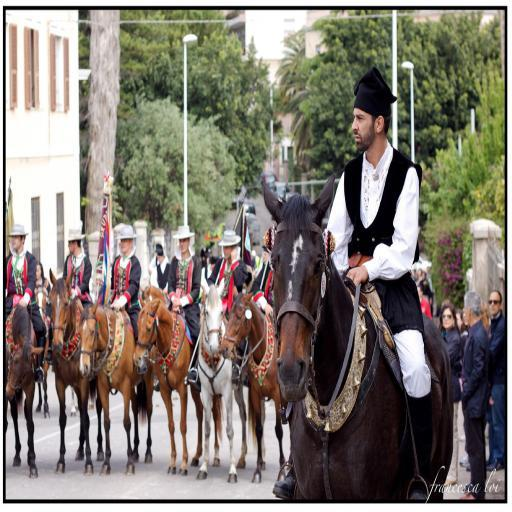Horse: (261, 180, 454, 503), (6, 266, 291, 481)
